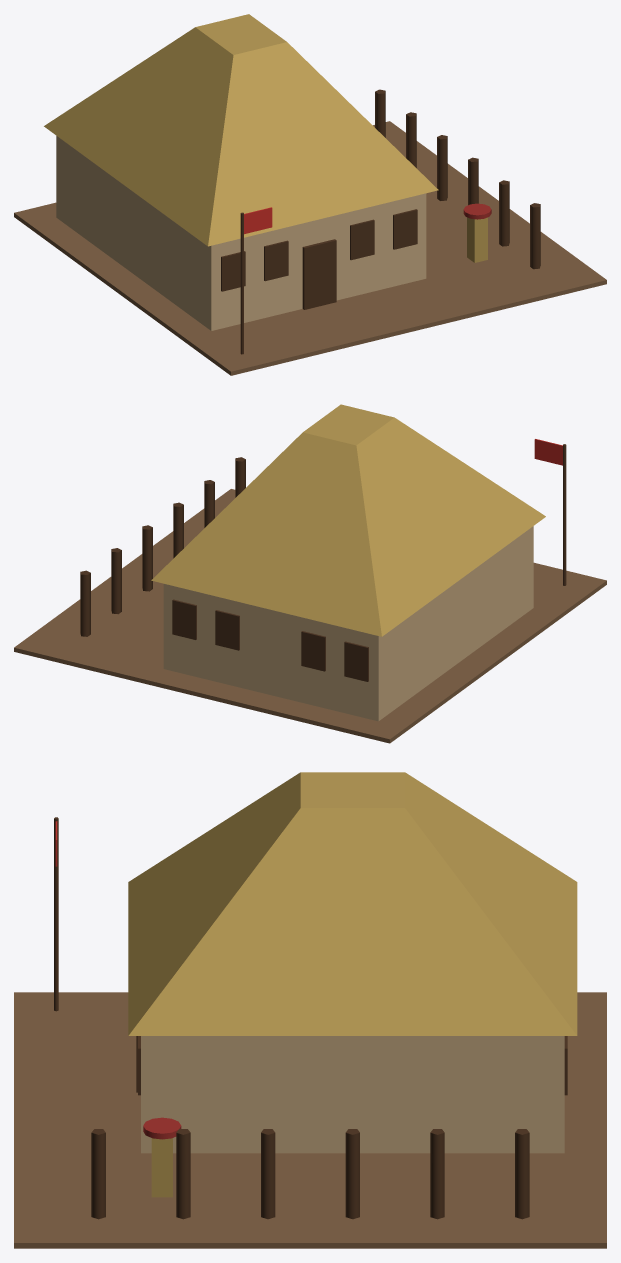
File: bld_special_barracks_a01.glb
3 views of the same model, one above another, from view 1: azimuth 30°, elevation 25°; view 2: azimuth 150°, elevation 25°; view 3: azimuth 270°, elevation 25° (orthographic). The views are drawn at different scales.
Visible parts, largest first — view 1: body; view 2: body; view 3: body.
Boxes of the visible parts, x1,y1,x2,y2 form: body: (14,14,606,375); body: (14,404,606,743); body: (14,772,606,1248).
Size of what is drawn, in the model's own units: 14 by 7.75 by 14.
